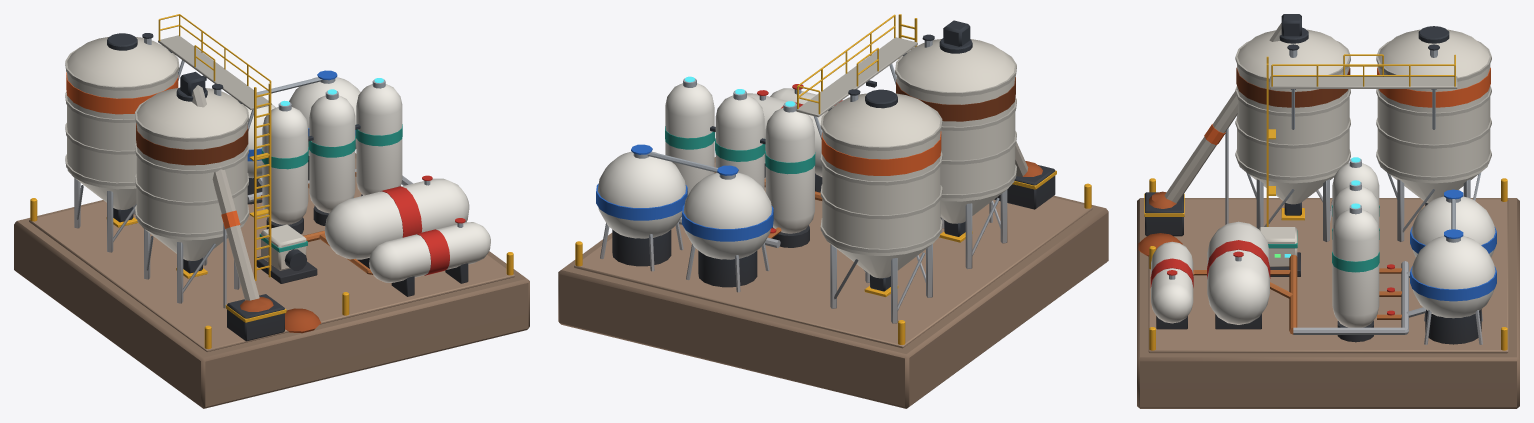
File: storage_silo.glb
3 renders of one model, left to right at view 1: azimuth 30°, elevation 25°; view 2: azimuth 150°, elevation 25°; view 3: azimuth 270°, elevation 25°, orthographic. The views are drawn at different scales.
Parts seen in each view (by area): view 1: storage_silo; view 2: storage_silo; view 3: storage_silo.
Boxes of the visible parts, bbox=[...] form: storage_silo: bbox=[14, 14, 529, 408]; storage_silo: bbox=[558, 14, 1108, 408]; storage_silo: bbox=[1137, 14, 1519, 408].
Size of the model in its own units: 4.9 by 3.73 by 4.9.
